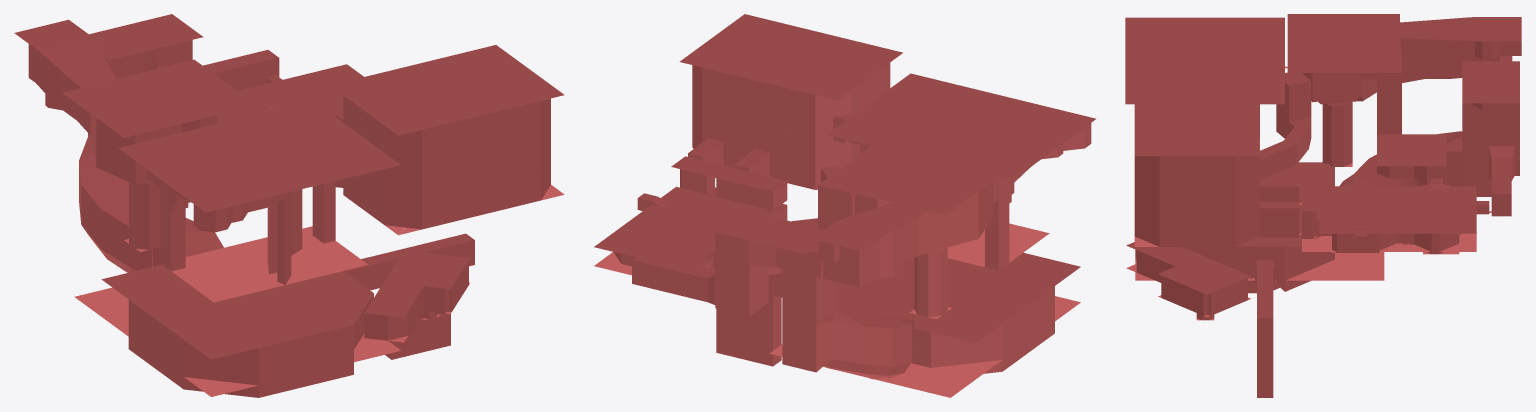
The model's file is cave.glb.
The picture shows the model from 3 angles, left to right: view 1: azimuth 30°, elevation 25°; view 2: azimuth 150°, elevation 25°; view 3: azimuth 270°, elevation 25°; orthographic projection. The views are drawn at different scales.
Visible parts, largest first — view 1: cave_col; view 2: cave_col; view 3: cave_col.
Boxes of the visible parts, x1,y1,x2,y2 form: cave_col: (14,14,564,397); cave_col: (594,14,1096,397); cave_col: (1125,14,1521,397).
Size of the model in its own units: 15.3 by 11.59 by 15.88.
